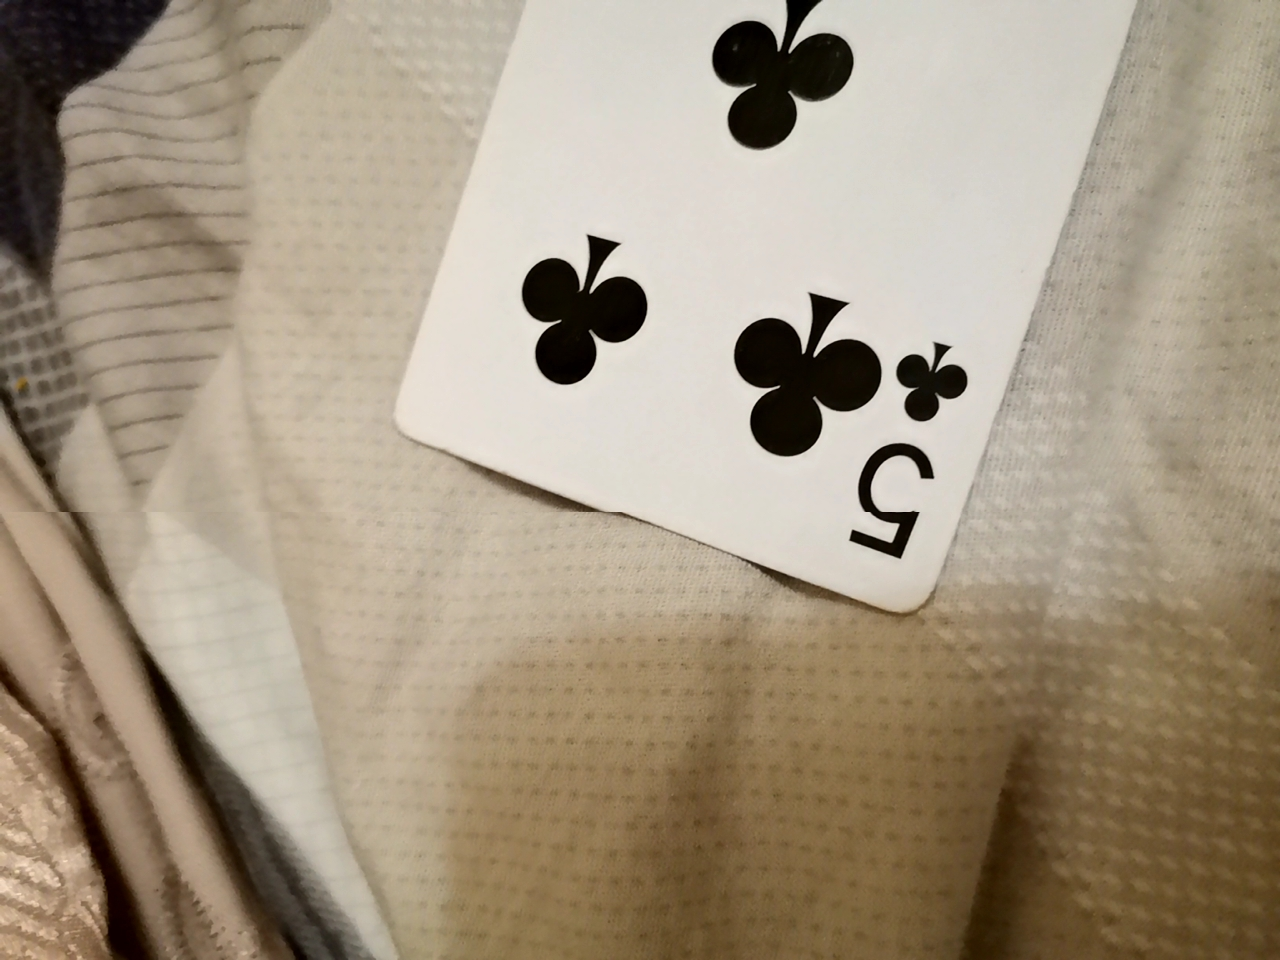mh 5: (384, 0, 1230, 639)
